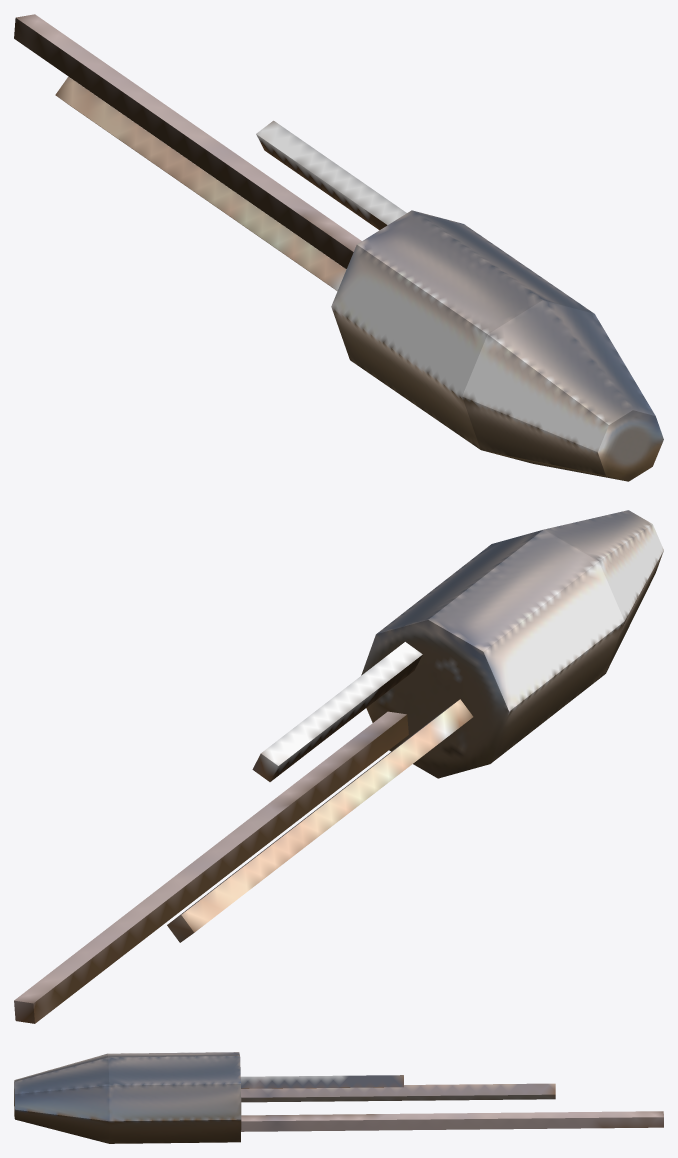
3 renders of one model, top to bottom at view 1: azimuth 30°, elevation 25°; view 2: azimuth 150°, elevation 25°; view 3: azimuth 270°, elevation 25°, orthographic. The views are drawn at different scales.
Visible parts, largest first — view 1: Bala_Cylinder.003, Estela_1_Cube.006, Estela_3_Cube.008, Estela_2_Cube.007; view 2: Bala_Cylinder.003, Estela_1_Cube.006, Estela_3_Cube.008, Estela_2_Cube.007; view 3: Bala_Cylinder.003, Estela_1_Cube.006, Estela_3_Cube.008, Estela_2_Cube.007.
Boxes of the visible parts, <box> form: Bala_Cylinder.003: <box>331,210,663,481</box>; Estela_1_Cube.006: <box>14,14,361,268</box>; Estela_3_Cube.008: <box>55,76,346,290</box>; Estela_2_Cube.007: <box>256,120,406,230</box>; Bala_Cylinder.003: <box>361,510,663,778</box>; Estela_1_Cube.006: <box>14,711,408,1023</box>; Estela_3_Cube.008: <box>167,699,473,942</box>; Estela_2_Cube.007: <box>252,642,422,781</box>; Bala_Cylinder.003: <box>14,1052,241,1143</box>; Estela_1_Cube.006: <box>241,1111,663,1131</box>; Estela_3_Cube.008: <box>241,1083,555,1102</box>; Estela_2_Cube.007: <box>241,1075,403,1088</box>.
Size of what is drawn, in the model's own units: 0.2908 by 0.28 by 1.94.
